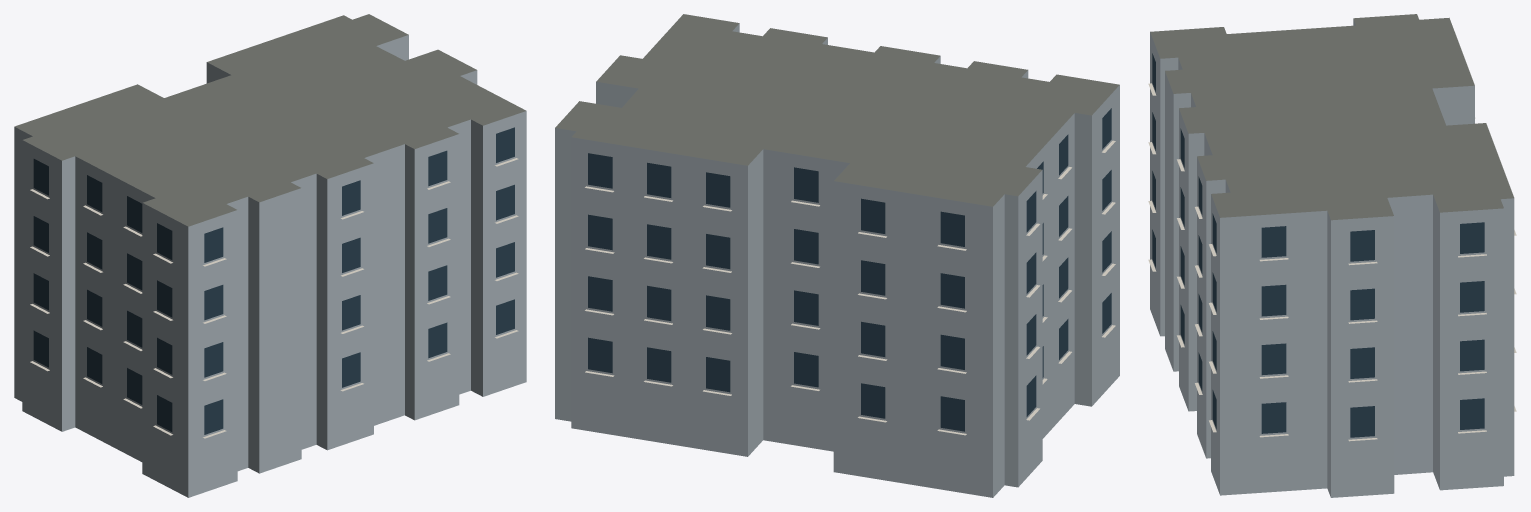
The picture shows the model from 3 angles, left to right: view 1: azimuth 30°, elevation 25°; view 2: azimuth 150°, elevation 25°; view 3: azimuth 270°, elevation 25°; orthographic projection. The views are drawn at different scales.
Visible parts, largest first — view 1: Footprint 0, Inferred window bays, Window sills; view 2: Footprint 0, Inferred window bays, Window sills; view 3: Footprint 0, Inferred window bays, Window sills.
Part boxes in pixels (x1,y1,x2,y2): Footprint 0: (14, 14, 526, 497); Inferred window bays: (33, 127, 514, 434); Window sills: (30, 158, 518, 438); Footprint 0: (555, 14, 1119, 497); Inferred window bays: (588, 108, 1111, 431); Window sills: (585, 140, 1115, 435); Footprint 0: (1150, 14, 1514, 497); Inferred window bays: (1152, 53, 1484, 437); Window sills: (1148, 83, 1516, 441).
Size of the model in its own units: 24.41 by 15.2 by 18.28.
